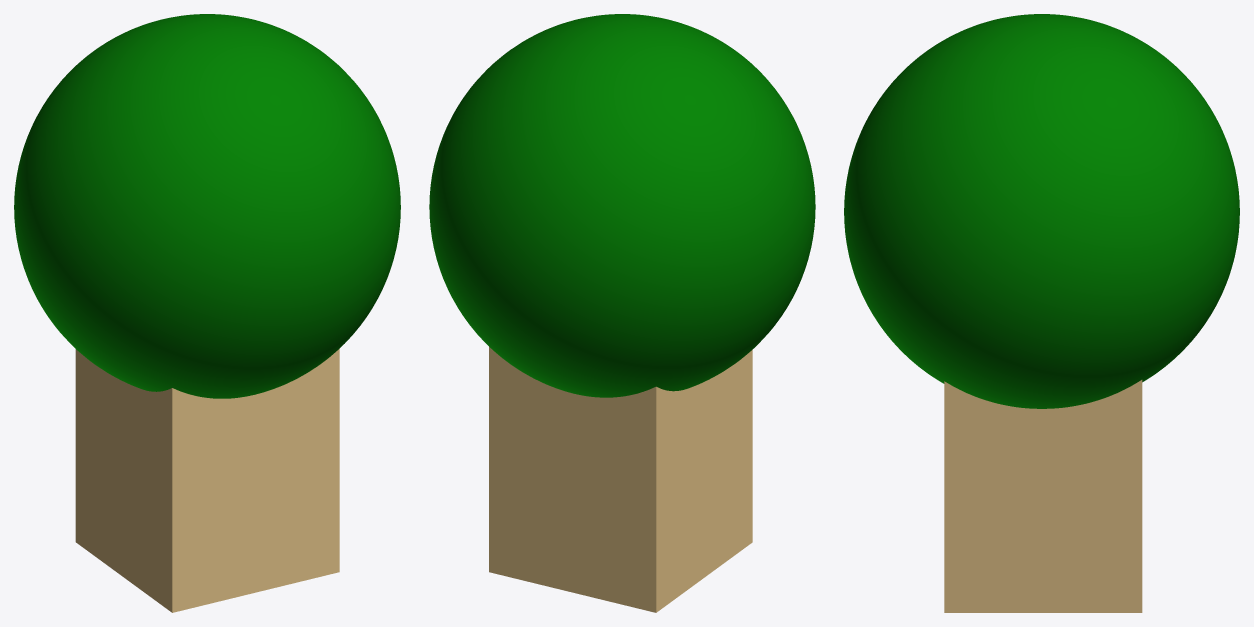
Rendered from mic.glb.
The picture shows the model from 3 angles, left to right: view 1: azimuth 30°, elevation 25°; view 2: azimuth 150°, elevation 25°; view 3: azimuth 270°, elevation 25°; orthographic projection. The views are drawn at different scales.
Size of the model in its own units: 2 by 3 by 2.
